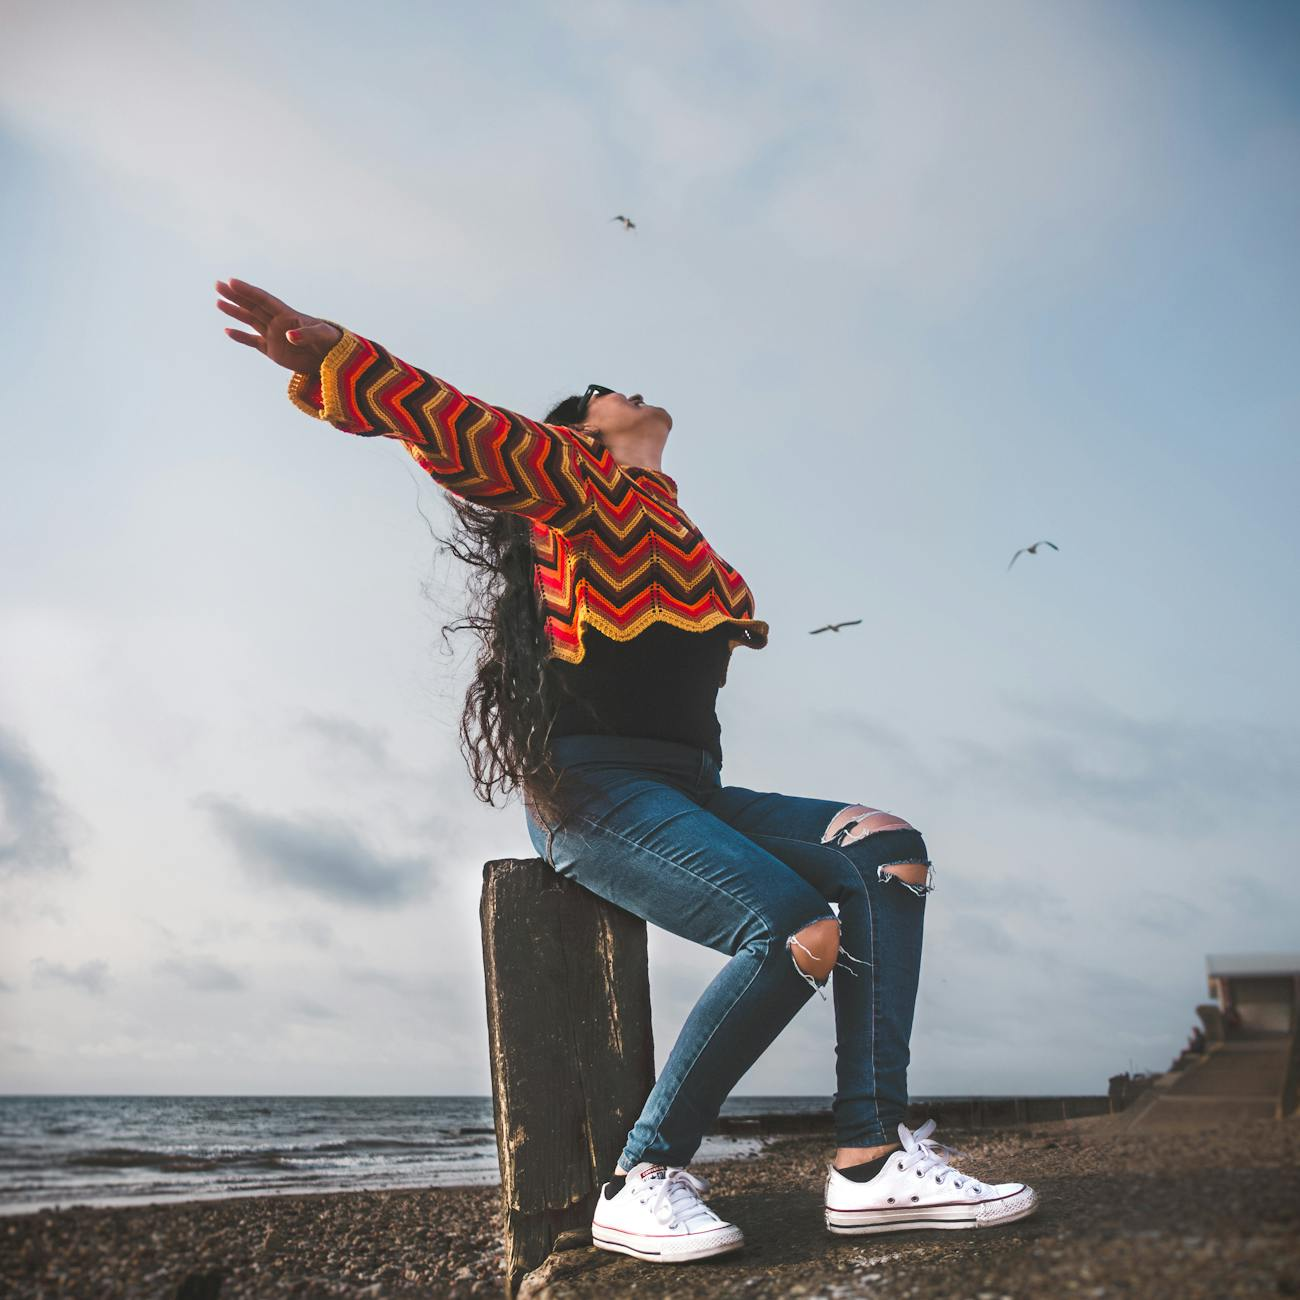ripped_jeans: (535, 762, 955, 1156)
